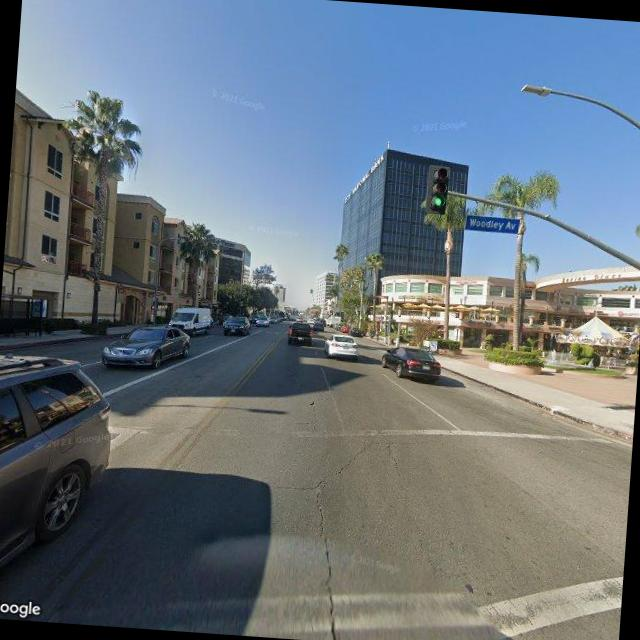pothole: (303, 427, 370, 639), (379, 437, 403, 475)
